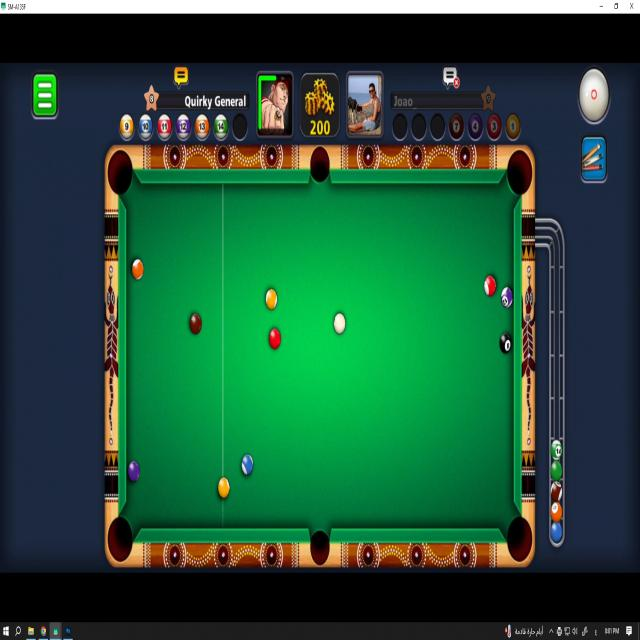object_ball: (241, 454, 253, 475), (269, 328, 280, 349), (190, 313, 201, 334), (501, 287, 512, 308), (132, 259, 143, 280), (128, 461, 139, 481), (266, 289, 277, 309), (500, 333, 511, 353), (218, 478, 229, 498), (485, 276, 495, 296)
white_cue_ball: (334, 313, 345, 334)
